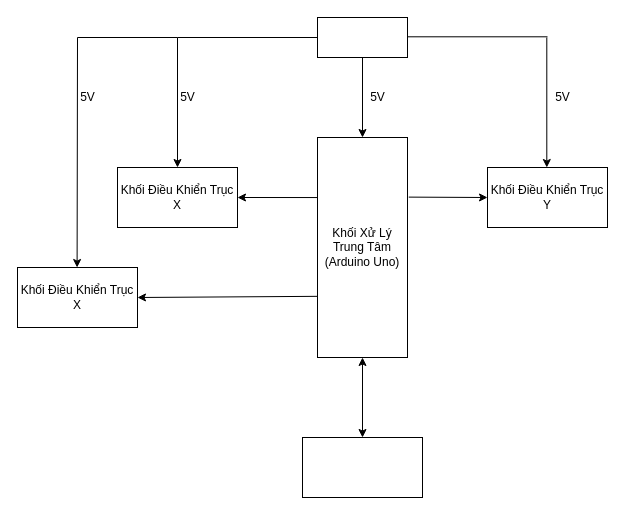
Image size: 625x515. Some labels were removed from this diagram. Here are the shapes that lost their labels. From the top down, the centre of each, then its label:
At (362,37): "Khối Nguồn".
At (362,467): "G-Code Sender (Máy Tính)".
